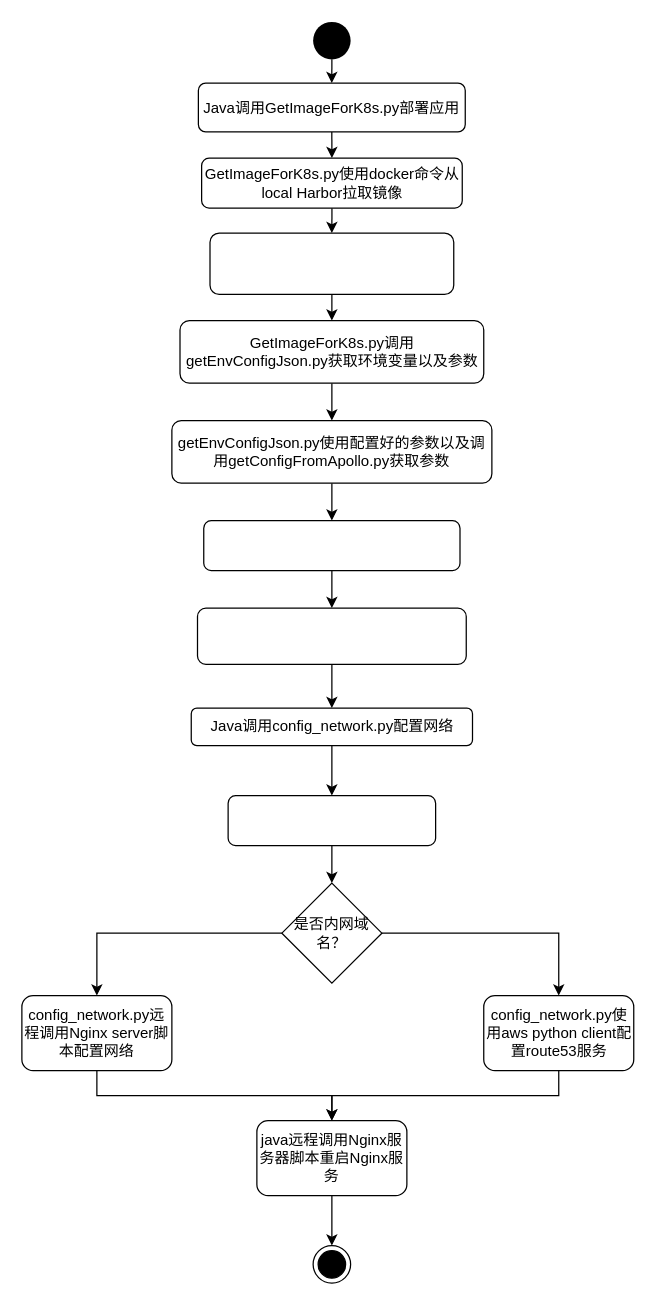
This 656x1305 diagram has some shape labels left out. The shapes that lost their labels are listed below. From the top down, each one's centre as x and y in pixels, then its label:
At point (331, 263): "GetImageForK8s.py使用docker命令向cloud Harbor推送镜像".
At point (331, 545): "GetImageForK8s.py调用deployWithHelm.py部署应用".
At point (331, 635): "deployWithHelm.py使用远程scp的方式运行helm命令部署应用".
At point (331, 820): "config_network.py远程调用DNS server脚本配置DNS".
